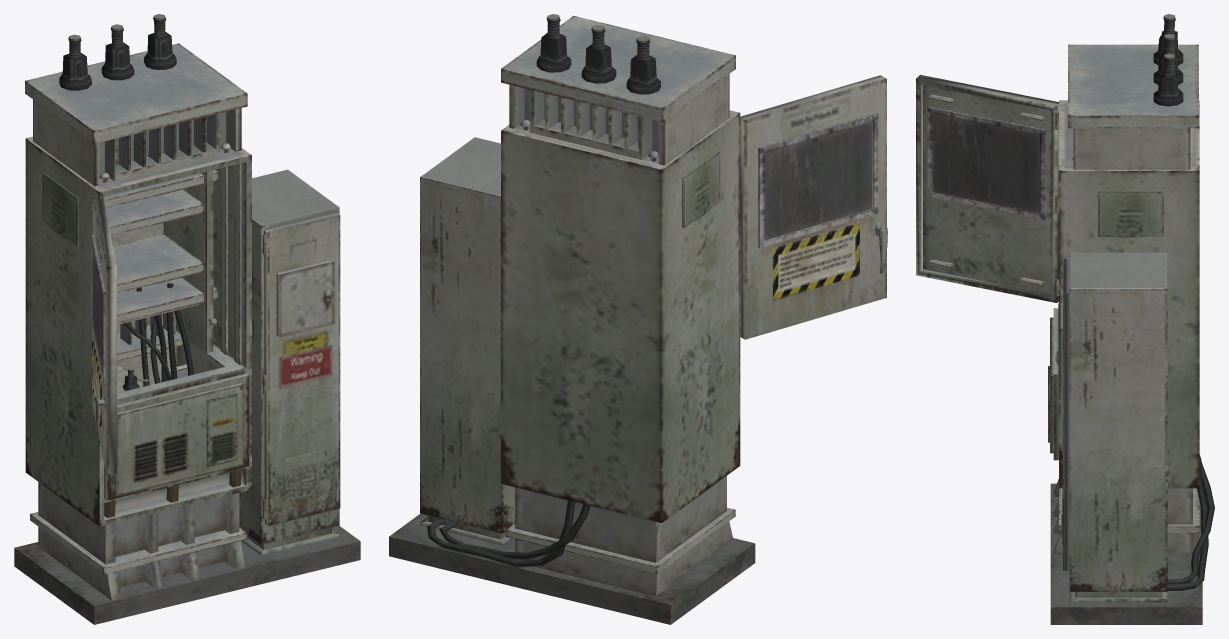
Rendered from sm22_061_transformercase01a.fbx.
The picture shows the model from 3 angles, left to right: view 1: azimuth 30°, elevation 25°; view 2: azimuth 150°, elevation 25°; view 3: azimuth 270°, elevation 25°; orthographic projection. The views are drawn at different scales.
Parts seen in each view (by area): view 1: LOD_1_Group_0_Sub_1__sm22_061_TransformerCase01A_A_Mat, LOD_1_Group_1_Sub_1__sm22_061_TransformerCase01A_A_Mat, LOD_1_Group_3_Sub_1__sm73_100_ExtensionCord01A_A_Mat, LOD_1_Group_2_Sub_1__sm73_100_ExtensionCord01A_A_Mat; view 2: LOD_1_Group_0_Sub_1__sm22_061_TransformerCase01A_A_Mat, LOD_1_Group_1_Sub_1__sm22_061_TransformerCase01A_A_Mat, LOD_1_Group_3_Sub_1__sm73_100_ExtensionCord01A_A_Mat, LOD_1_Group_2_Sub_1__sm73_100_ExtensionCord01A_A_Mat; view 3: LOD_1_Group_0_Sub_1__sm22_061_TransformerCase01A_A_Mat, LOD_1_Group_1_Sub_1__sm22_061_TransformerCase01A_A_Mat, LOD_1_Group_3_Sub_1__sm73_100_ExtensionCord01A_A_Mat, LOD_1_Group_2_Sub_1__sm73_100_ExtensionCord01A_A_Mat.
Part boxes in pixels (<box>): LOD_1_Group_0_Sub_1__sm22_061_TransformerCase01A_A_Mat: <box>14,43,360,624</box>; LOD_1_Group_1_Sub_1__sm22_061_TransformerCase01A_A_Mat: <box>91,198,116,474</box>; LOD_1_Group_3_Sub_1__sm73_100_ExtensionCord01A_A_Mat: <box>59,14,176,390</box>; LOD_1_Group_2_Sub_1__sm73_100_ExtensionCord01A_A_Mat: <box>123,283,193,385</box>; LOD_1_Group_0_Sub_1__sm22_061_TransformerCase01A_A_Mat: <box>389,15,755,624</box>; LOD_1_Group_1_Sub_1__sm22_061_TransformerCase01A_A_Mat: <box>740,75,887,339</box>; LOD_1_Group_3_Sub_1__sm73_100_ExtensionCord01A_A_Mat: <box>536,14,660,94</box>; LOD_1_Group_2_Sub_1__sm73_100_ExtensionCord01A_A_Mat: <box>427,500,590,567</box>; LOD_1_Group_0_Sub_1__sm22_061_TransformerCase01A_A_Mat: <box>1048,44,1202,624</box>; LOD_1_Group_1_Sub_1__sm22_061_TransformerCase01A_A_Mat: <box>916,74,1058,302</box>; LOD_1_Group_3_Sub_1__sm73_100_ExtensionCord01A_A_Mat: <box>1153,14,1183,106</box>; LOD_1_Group_2_Sub_1__sm73_100_ExtensionCord01A_A_Mat: <box>1167,454,1214,590</box>.
Bounding box in the file's own units: 1.74 × 2.69 × 1.45.
